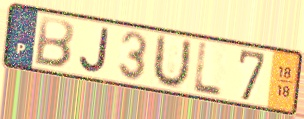3: (118, 29, 150, 84)
7: (236, 48, 266, 103)
B: (32, 14, 76, 71)
J: (77, 26, 112, 75)
L: (191, 40, 224, 99)
U: (149, 32, 194, 90)
